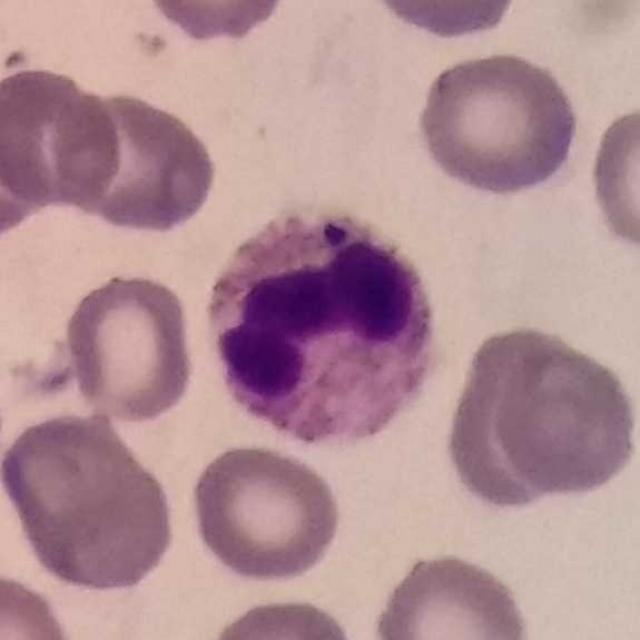Neutrophil: (210, 213, 436, 443)
